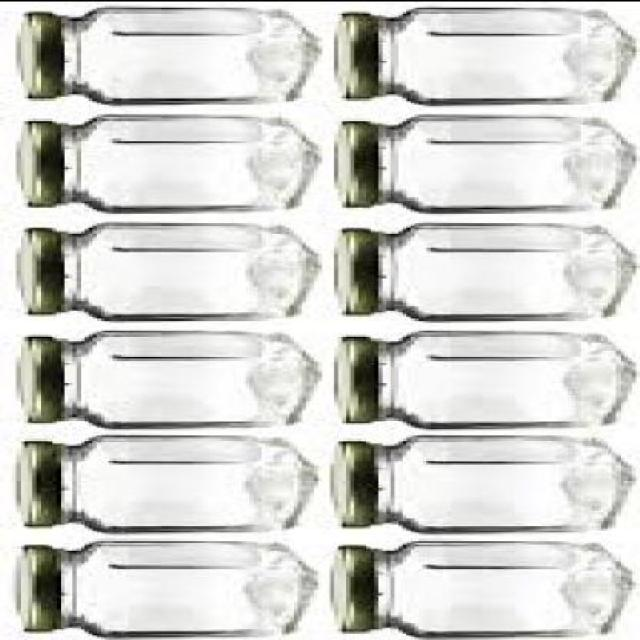GLASS: (52, 436, 310, 536), (60, 328, 306, 430), (370, 224, 628, 321), (374, 10, 628, 107), (60, 115, 314, 212), (52, 541, 310, 636), (60, 8, 314, 104), (378, 115, 628, 212), (61, 224, 310, 321), (378, 331, 632, 426), (370, 438, 628, 531), (374, 541, 624, 636)
METAL: (15, 12, 64, 98), (331, 15, 379, 100), (329, 547, 375, 631), (331, 230, 375, 316), (16, 122, 61, 206), (332, 121, 375, 208), (14, 229, 57, 315), (14, 337, 57, 422), (328, 442, 371, 527), (335, 336, 376, 424), (12, 442, 52, 529), (14, 546, 53, 635)
